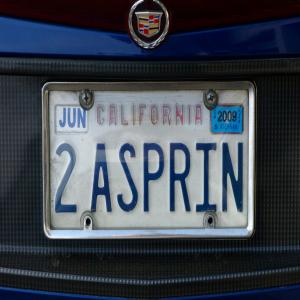Vehicle-registration-plate: (44, 81, 256, 237)
